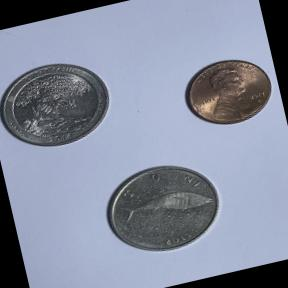Croatia-2Kune-B: (92, 150, 234, 267)
US-1cent-B: (174, 47, 282, 136)
US-25cent-B: (0, 47, 122, 163)
